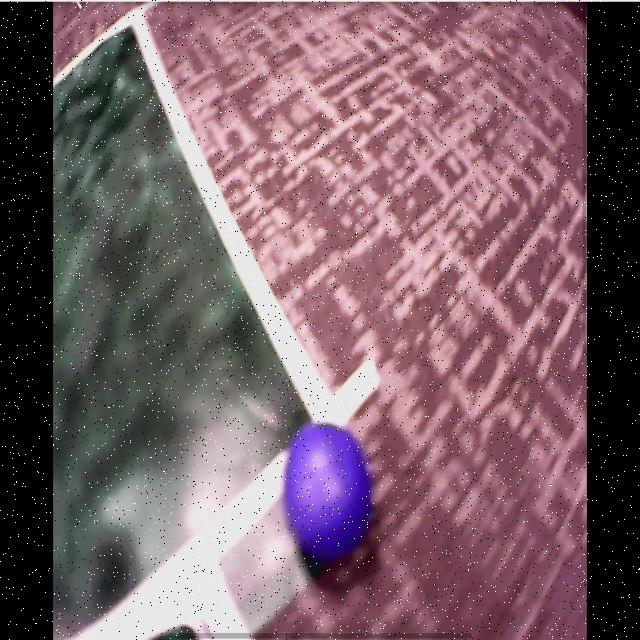ball: (287, 423, 369, 557)
